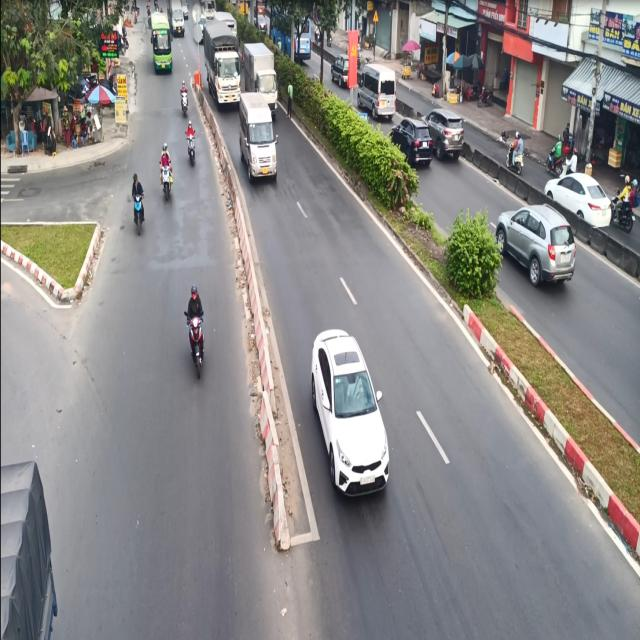bus: (148, 12, 173, 82)
car: (307, 327, 400, 513), (239, 98, 280, 185)
motor: (182, 271, 209, 389), (124, 171, 151, 235), (154, 140, 173, 206), (183, 122, 200, 173), (176, 76, 193, 123)
truck: (202, 12, 242, 104)
